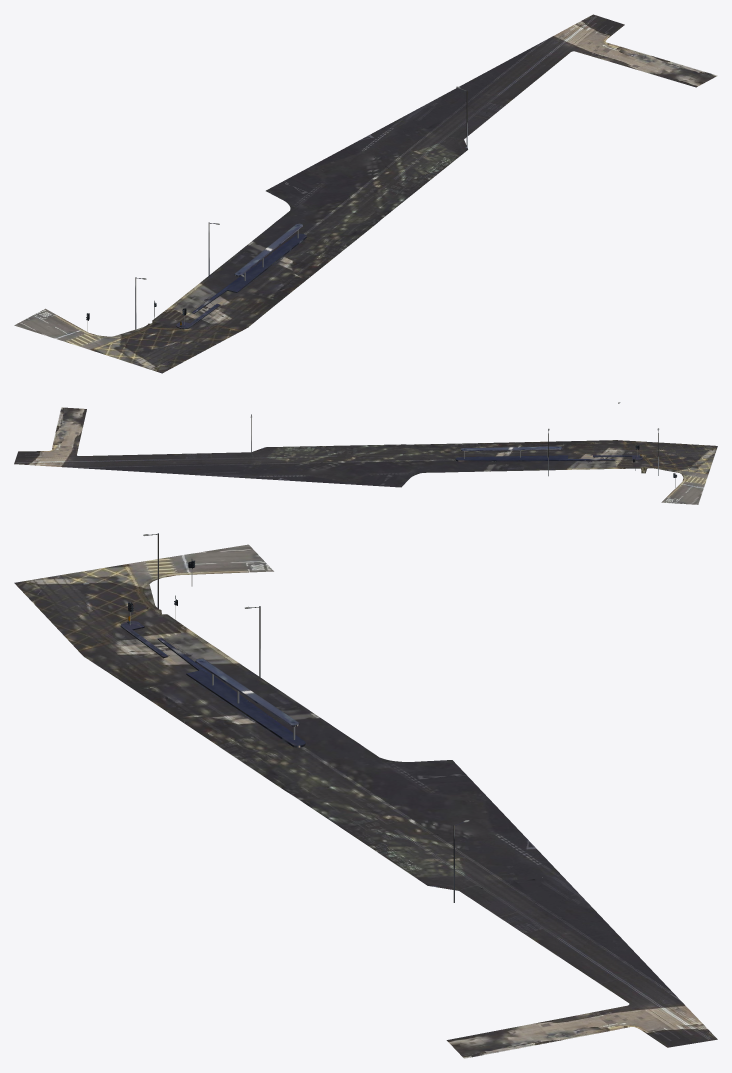
File: burrows-fleming.glb
3 renders of one model, top to bottom at view 1: azimuth 30°, elevation 25°; view 2: azimuth 150°, elevation 25°; view 3: azimuth 270°, elevation 25°, orthographic. The views are drawn at different scales.
Parts seen in each view (by area): view 1: burrows-fleming; view 2: burrows-fleming; view 3: burrows-fleming.
Part boxes in pixels (box(x1,y1,x2,y2)): burrows-fleming: box(14, 14, 717, 373); burrows-fleming: box(14, 402, 717, 504); burrows-fleming: box(14, 533, 717, 1058).
Bounding box in the file's own units: 160 × 12.1 × 92.82.
6 materials, 6 textured.
